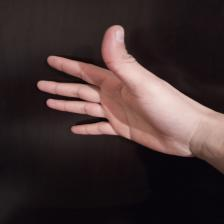five: (36, 24, 200, 150)
